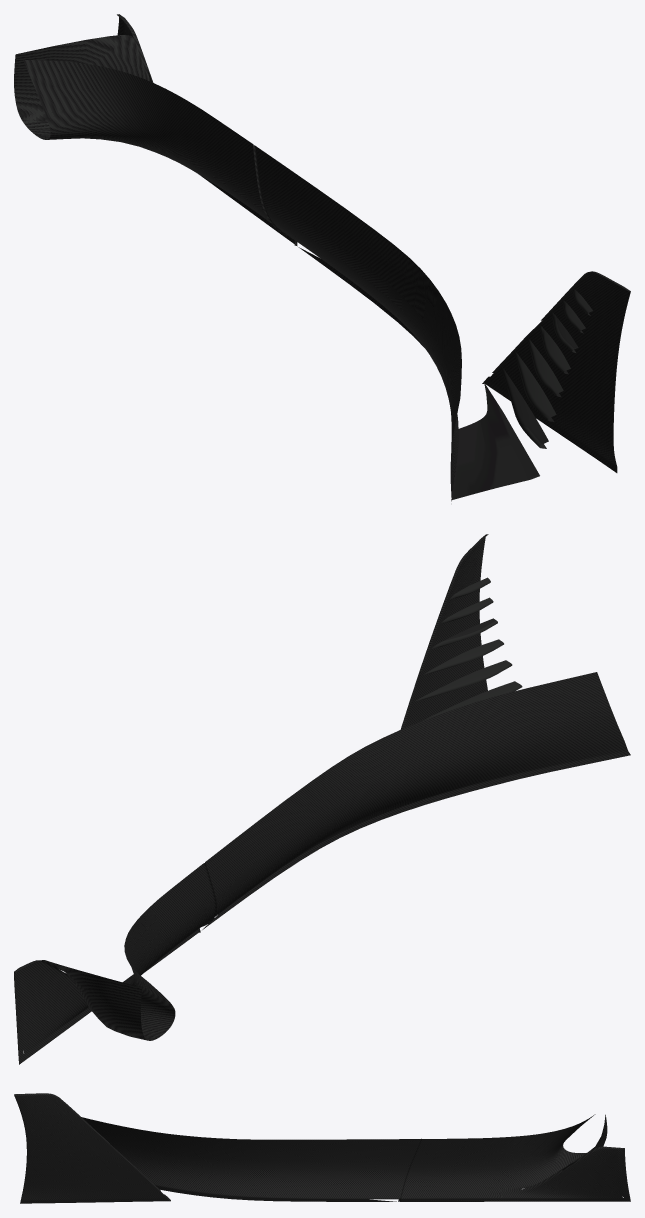
File: sideskirt_l.glb
The picture shows the model from 3 angles, top to bottom: view 1: azimuth 30°, elevation 25°; view 2: azimuth 150°, elevation 25°; view 3: azimuth 270°, elevation 25°; orthographic projection. The views are drawn at different scales.
Visible parts, largest first — view 1: amgprojone_door_L.004_amgprojone_carbon_0.001, amgprojone_body.004_amgprojone_carbon_0.001; view 2: amgprojone_door_L.004_amgprojone_carbon_0.001, amgprojone_body.004_amgprojone_carbon_0.001; view 3: amgprojone_door_L.004_amgprojone_carbon_0.001, amgprojone_body.004_amgprojone_carbon_0.001.
Boxes of the visible parts, <box> form: amgprojone_door_L.004_amgprojone_carbon_0.001: <box>253,145,630,501</box>; amgprojone_body.004_amgprojone_carbon_0.001: <box>14,14,294,243</box>; amgprojone_door_L.004_amgprojone_carbon_0.001: <box>199,534,630,930</box>; amgprojone_body.004_amgprojone_carbon_0.001: <box>14,863,216,1064</box>; amgprojone_door_L.004_amgprojone_carbon_0.001: <box>14,1093,421,1203</box>; amgprojone_body.004_amgprojone_carbon_0.001: <box>399,1114,630,1201</box>.
Size of the model in its own units: 0.3481 by 0.3688 by 1.85.
1 material, 1 textured.
